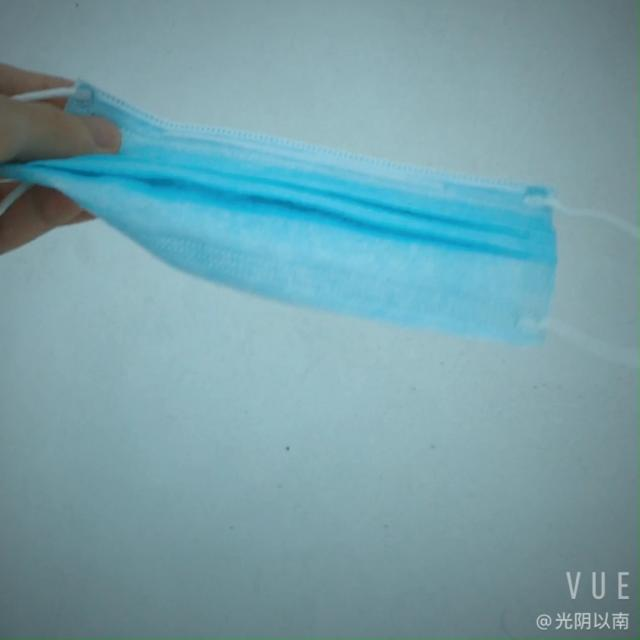face mask: (48, 128, 566, 315)
